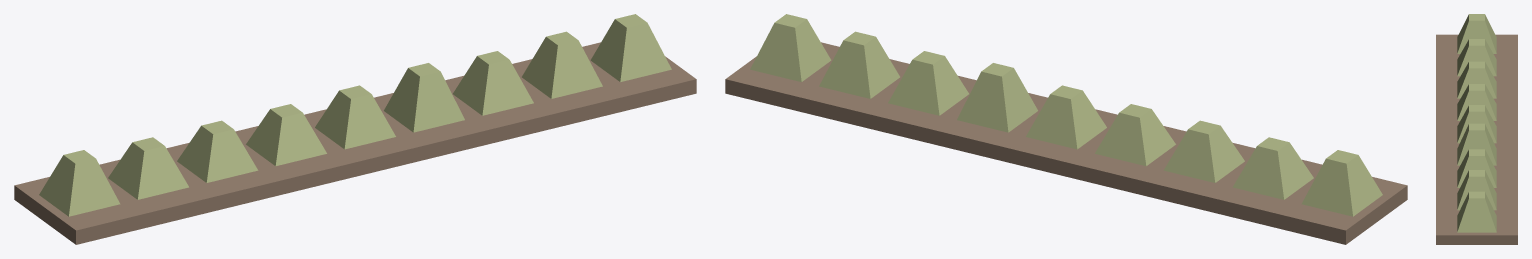
File: andean-terraces-and-stone-village-terrace-crop-row-afcab320__38222.glb
3 views of the same model, side by side, from view 1: azimuth 30°, elevation 25°; view 2: azimuth 150°, elevation 25°; view 3: azimuth 270°, elevation 25° (orthographic). The views are drawn at different scales.
Visible parts, largest first — view 1: terrace-crop-row-grass, terrace-crop-row-earth; view 2: terrace-crop-row-grass, terrace-crop-row-earth; view 3: terrace-crop-row-earth, terrace-crop-row-grass.
Boxes of the visible parts, <box> form: terrace-crop-row-grass: <box>39,14,671,216</box>; terrace-crop-row-earth: <box>14,42,696,244</box>; terrace-crop-row-grass: <box>750,14,1382,216</box>; terrace-crop-row-earth: <box>725,42,1407,244</box>; terrace-crop-row-earth: <box>1436,34,1517,244</box>; terrace-crop-row-grass: <box>1457,14,1496,232</box>.
Size of the model in its own units: 3.6 by 0.3338 by 0.6201.
